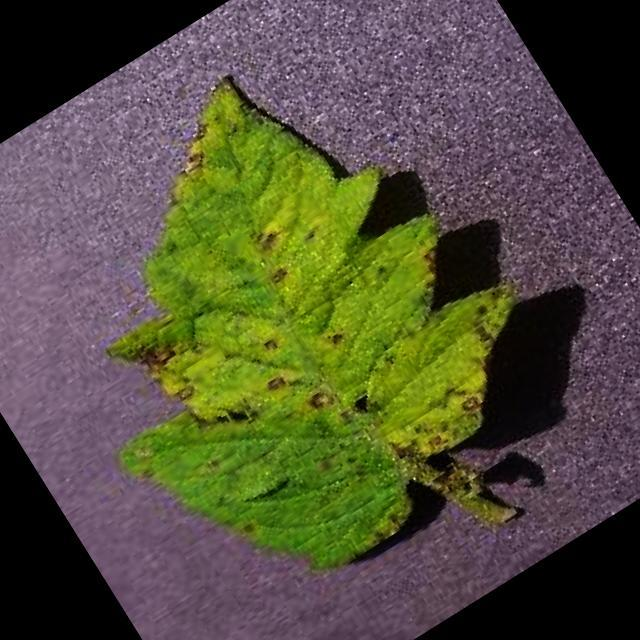Tomato Septoria spot leaf: (0, 0, 590, 638)
